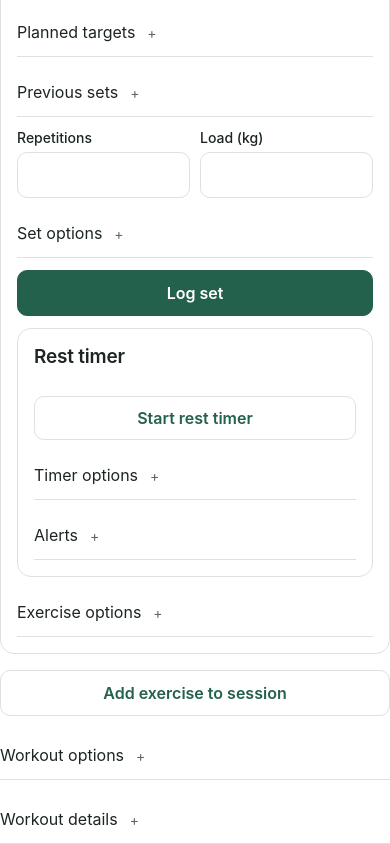
it: shows the correction reason, actor type and saved historical results
The image size is (390, 844).
(page scrolled)
Click the button "Workout details +".
click(59, 819)  # box [0, 796, 389, 843]
(page scrolled)
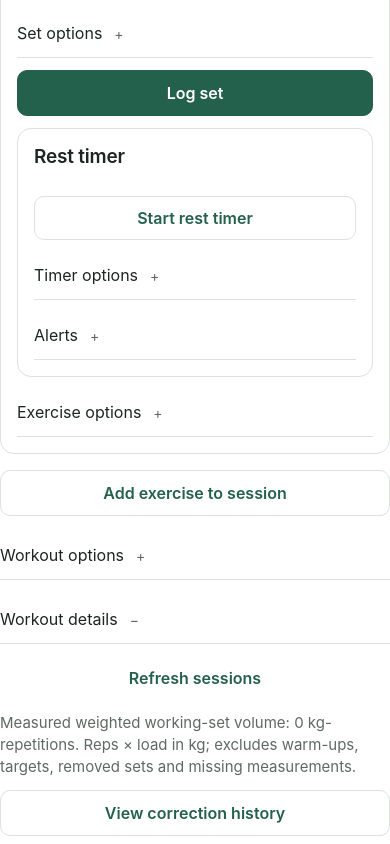
Click the button "View correction history".
click(195, 813)  # box [0, 790, 389, 836]
(page scrolled)
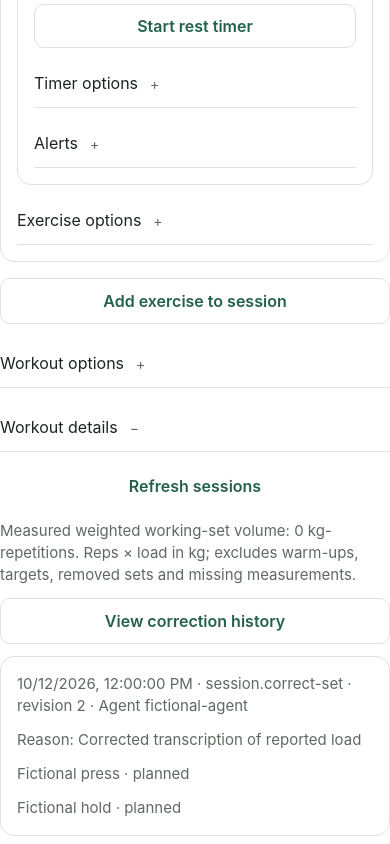
Expected: the text "Reason: Corrected transcription of reported load" is shown, [17, 729, 373, 751]
Expected: the text "Agent fictional-agent" is shown, [17, 673, 373, 717]
